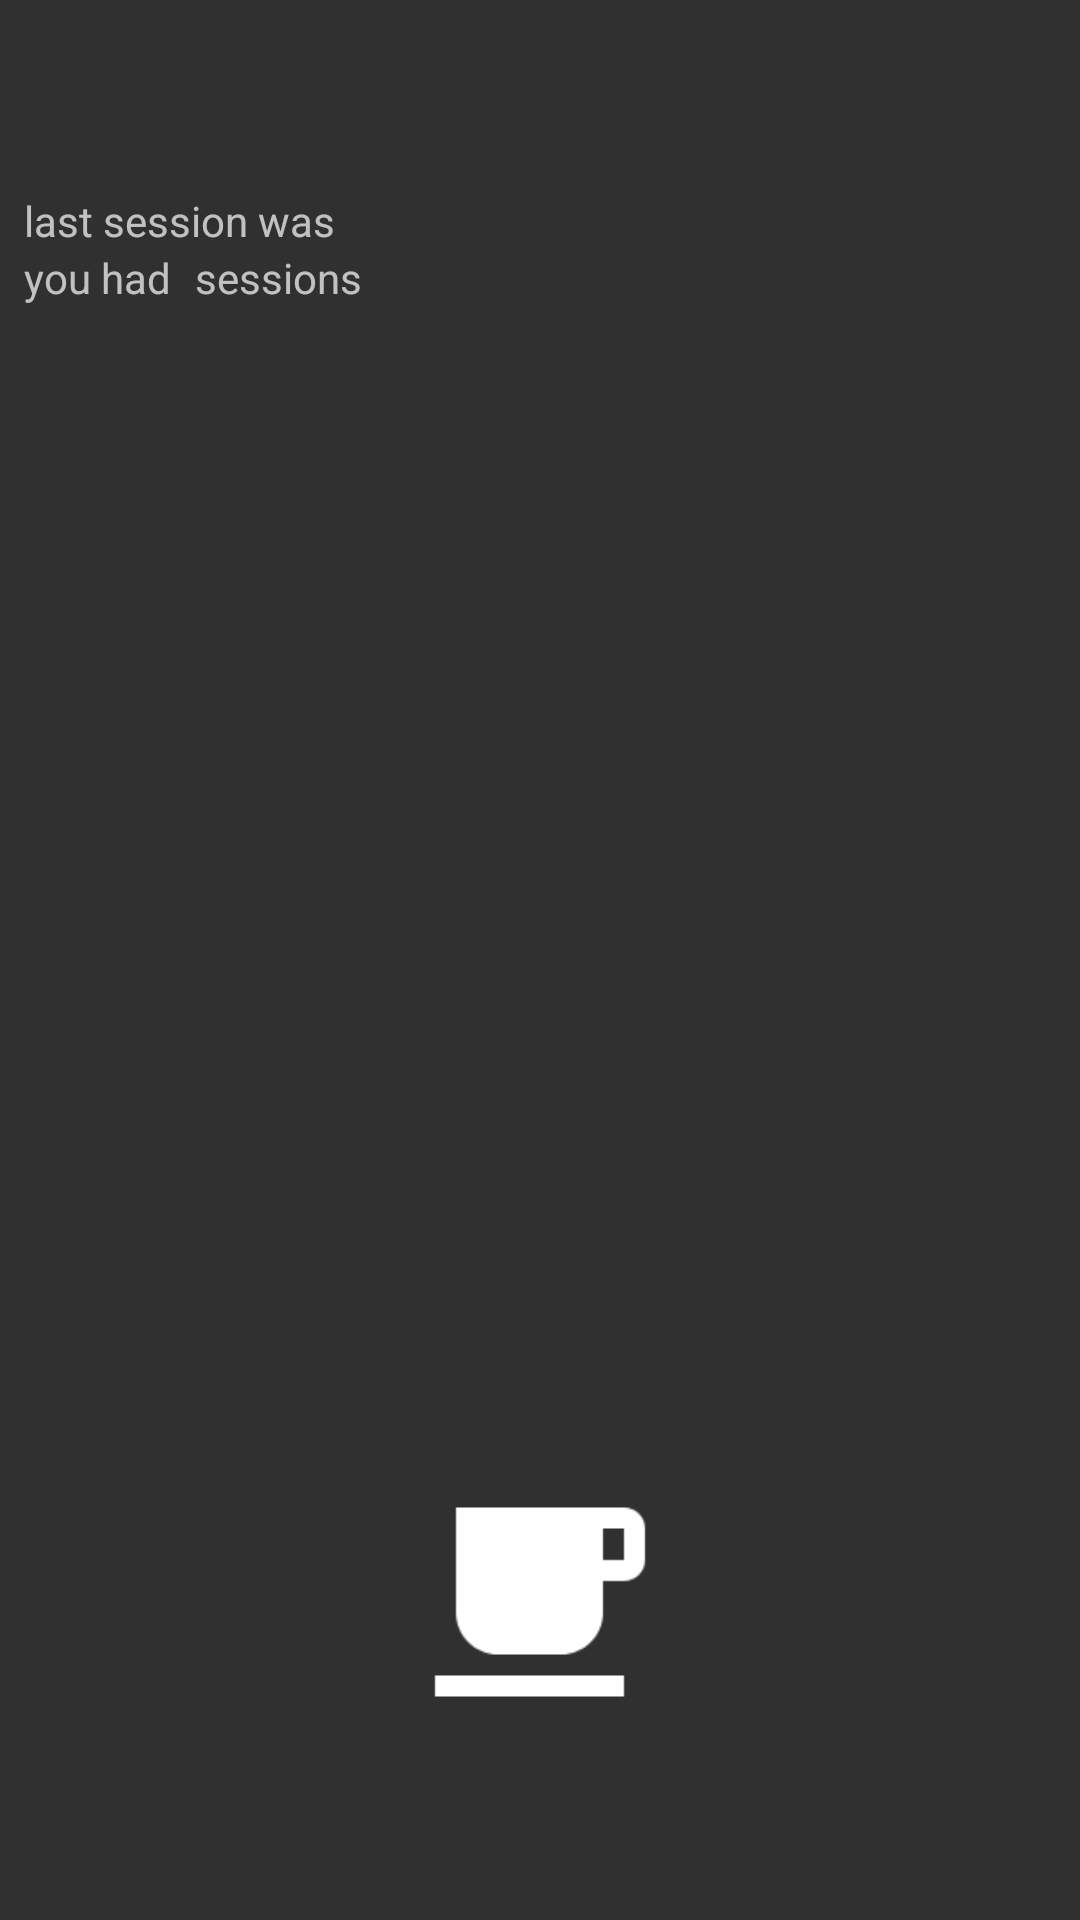

Icons on this 1080x1920 Android screen, each with its box as detection(x1, y1, x2, y2):
i'm drinking tea: detection(434, 1507, 646, 1697)
